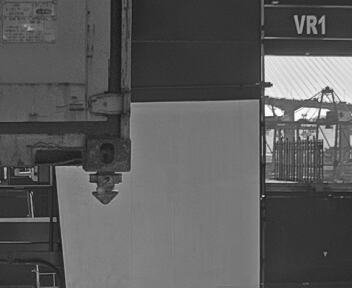twist_lock_2: (86, 169, 125, 211)
